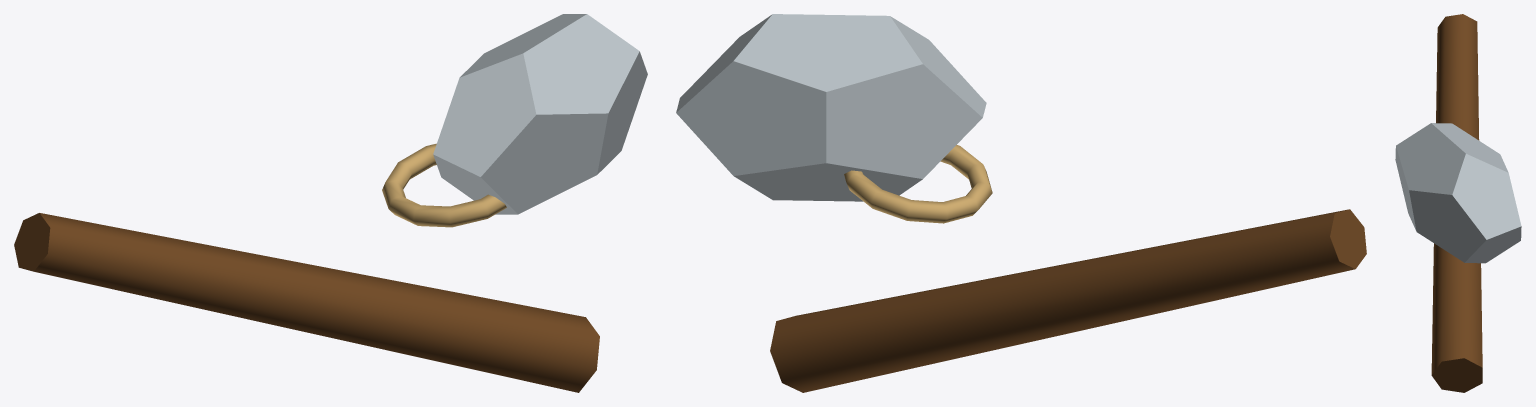
File: player_stone_tool.glb
3 views of the same model, side by side, from view 1: azimuth 30°, elevation 25°; view 2: azimuth 150°, elevation 25°; view 3: azimuth 270°, elevation 25° (orthographic). The views are drawn at different scales.
Parts seen in each view (by area): view 1: stone_tool_handle, stone_tool_head, stone_tool_lashing; view 2: stone_tool_head, stone_tool_handle, stone_tool_lashing; view 3: stone_tool_head, stone_tool_handle.
Part boxes in pixels (<box>): stone_tool_handle: <box>14,213,599,392</box>; stone_tool_head: <box>433,14,647,214</box>; stone_tool_lashing: <box>382,143,506,227</box>; stone_tool_head: <box>676,14,986,201</box>; stone_tool_handle: <box>770,209,1366,392</box>; stone_tool_lashing: <box>844,145,992,223</box>; stone_tool_head: <box>1395,123,1521,263</box>; stone_tool_handle: <box>1431,14,1482,392</box>.
Size of the model in its own units: 0.85 by 0.4614 by 0.2111.
